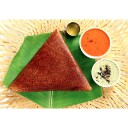dosa: (12, 30, 94, 91)
